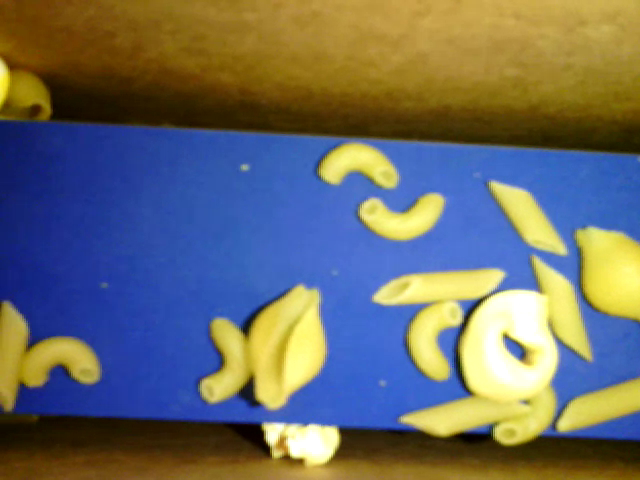elbow: (404, 298, 460, 381), (199, 315, 247, 405), (495, 381, 561, 446), (316, 141, 400, 192), (357, 192, 445, 240), (24, 337, 102, 389)
penne: (397, 385, 532, 440), (532, 252, 591, 361), (490, 178, 566, 254), (369, 267, 504, 304), (560, 377, 639, 431), (3, 298, 30, 408)
shell: (247, 282, 329, 408), (575, 227, 637, 321), (3, 66, 58, 127)
tortellini: (460, 290, 559, 400)
